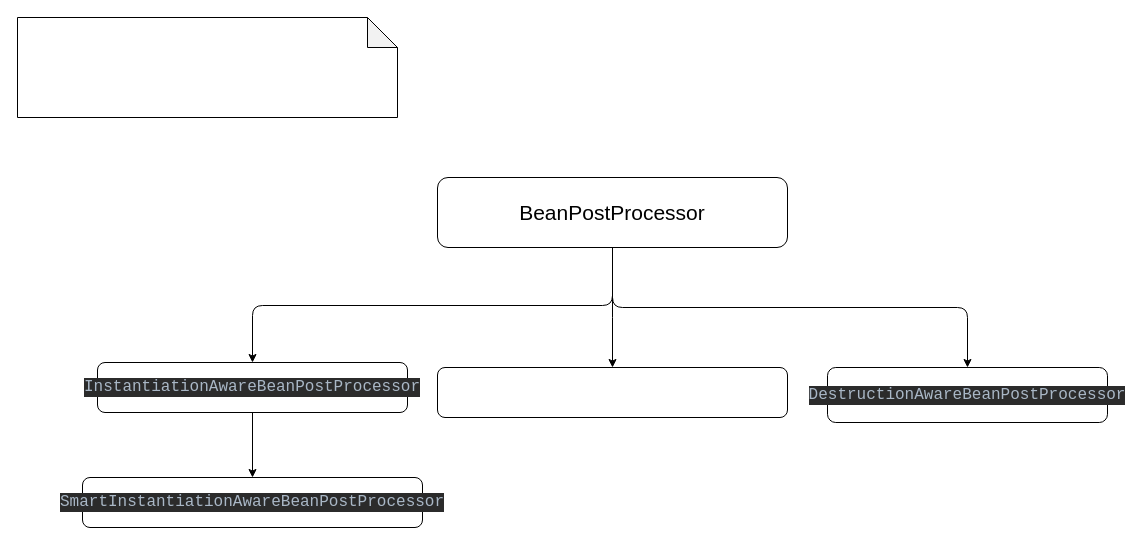
The diagram is 1143 pixels wide and 545 high, and some of its shapes have lost their labels. Each missing label, with the box of its shape:
MergedBeanDefinitionPostProcessor: (436, 366, 788, 418)
一些重要的BeanFactoryPostProcessor，以及继承关系: (16, 16, 398, 118)
